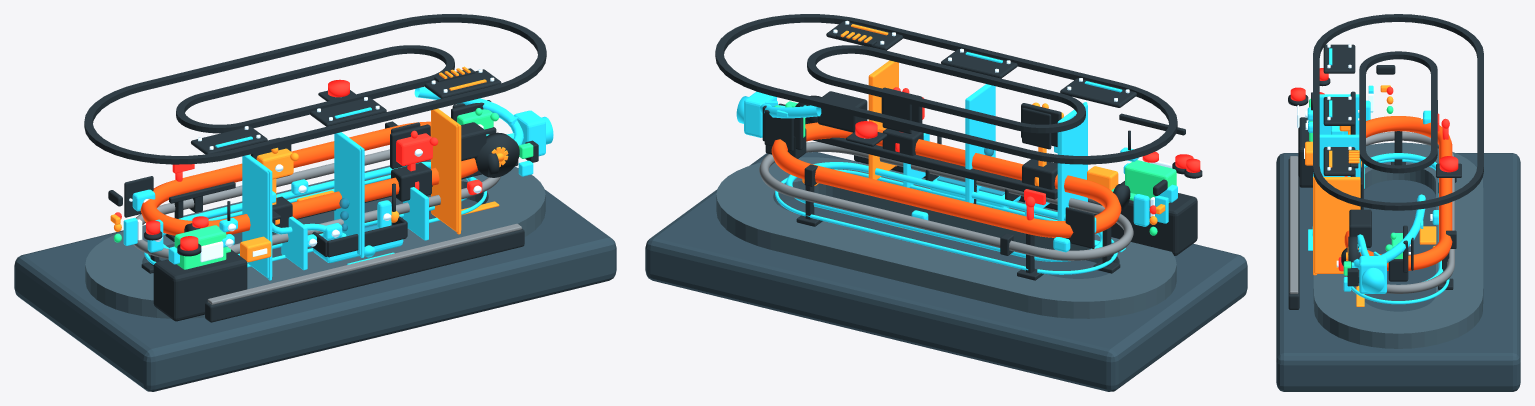
File: utility-tunnel-annular-v05.glb
3 views of the same model, side by side, from view 1: azimuth 30°, elevation 25°; view 2: azimuth 150°, elevation 25°; view 3: azimuth 270°, elevation 25° (orthographic). The views are drawn at different scales.
Parts seen in each view (by area): view 1: MESH_BASE_01, MESH_RING_FLOOR, MESH_RING_OUTER_RAIL, MESH_PIPE_G01, MESH_CABLE_DUCT_01, MESH_RING_INNER_RAIL, MESH_CTRL_DRY_BAY, MESH_PIPE_UTILITY_01, GEO_ZONE_C_RIB, GEO_ZONE_B_RIB, GEO_CABLE_DUCT_COVER, GEO_ZONE_A_RIB (+19 smaller); view 2: MESH_BASE_01, MESH_RING_FLOOR, MESH_PIPE_G01, MESH_RING_OUTER_RAIL, MESH_PIPE_UTILITY_01, MESH_RING_INNER_RAIL, MESH_PIPE_UTILITY_02, MESH_CTRL_DRY_BAY, MESH_GAS_SENSOR_RAIL_C01, MESH_LED_RING, GEO_ZONE_A_RIB, GEO_ZONE_B_RIB (+16 smaller); view 3: MESH_BASE_01, MESH_RING_FLOOR, MESH_RING_OUTER_RAIL, GEO_ZONE_C_RIB, MESH_PIPE_G01, MESH_RING_INNER_RAIL, MESH_PIPE_UTILITY_01, GEO_CABLE_DUCT_COVER, MESH_ROOF_HATCH_A, MESH_ROOF_HATCH_B, GEO_ZONE_B_RIB, MESH_ROOF_HATCH_C (+16 smaller).
Boxes of the visible parts, left/top/right/bottom form: MESH_BASE_01: left=14, top=189, right=616, bottom=391; MESH_RING_FLOOR: left=85, top=159, right=545, bottom=318; MESH_RING_OUTER_RAIL: left=84, top=14, right=546, bottom=164; MESH_PIPE_G01: left=140, top=121, right=477, bottom=235; MESH_CABLE_DUCT_01: left=205, top=229, right=524, bottom=322; MESH_RING_INNER_RAIL: left=176, top=45, right=454, bottom=133; MESH_CTRL_DRY_BAY: left=153, top=249, right=247, bottom=321; MESH_PIPE_UTILITY_01: left=133, top=149, right=500, bottom=258; GEO_ZONE_C_RIB: left=431, top=108, right=461, bottom=232; GEO_ZONE_B_RIB: left=334, top=132, right=364, bottom=255; GEO_CABLE_DUCT_COVER: left=207, top=223, right=521, bottom=304; GEO_ZONE_A_RIB: left=242, top=154, right=272, bottom=278; MESH_BASE_01: left=645, top=152, right=1247, bottom=391; MESH_RING_FLOOR: left=716, top=157, right=1176, bottom=318; MESH_PIPE_G01: left=771, top=122, right=1121, bottom=237; MESH_RING_OUTER_RAIL: left=715, top=14, right=1177, bottom=164; MESH_PIPE_UTILITY_01: left=759, top=141, right=1133, bottom=260; MESH_RING_INNER_RAIL: left=807, top=45, right=1085, bottom=133; MESH_PIPE_UTILITY_02: left=786, top=162, right=1102, bottom=261; MESH_CTRL_DRY_BAY: left=1111, top=181, right=1197, bottom=255; MESH_GAS_SENSOR_RAIL_C01: left=813, top=137, right=1057, bottom=199; MESH_LED_RING: left=775, top=169, right=1117, bottom=274; GEO_ZONE_A_RIB: left=1057, top=103, right=1087, bottom=220; GEO_ZONE_B_RIB: left=965, top=84, right=995, bottom=203; MESH_BASE_01: left=1276, top=153, right=1520, bottom=391; MESH_RING_FLOOR: left=1313, top=142, right=1483, bottom=348; MESH_RING_OUTER_RAIL: left=1313, top=14, right=1483, bottom=210; GEO_ZONE_C_RIB: left=1314, top=177, right=1360, bottom=273; MESH_PIPE_G01: left=1344, top=116, right=1452, bottom=270; MESH_RING_INNER_RAIL: left=1359, top=51, right=1437, bottom=173; MESH_PIPE_UTILITY_01: left=1346, top=131, right=1454, bottom=293; GEO_CABLE_DUCT_COVER: left=1289, top=156, right=1298, bottom=293; MESH_ROOF_HATCH_A: left=1323, top=44, right=1355, bottom=73; MESH_ROOF_HATCH_B: left=1323, top=97, right=1355, bottom=125; GEO_ZONE_B_RIB: left=1319, top=134, right=1360, bottom=177; MESH_ROOF_HATCH_C: left=1323, top=147, right=1355, bottom=175.
Size of what is drawn, in the model's own units: 1 by 0.42 by 0.5.
